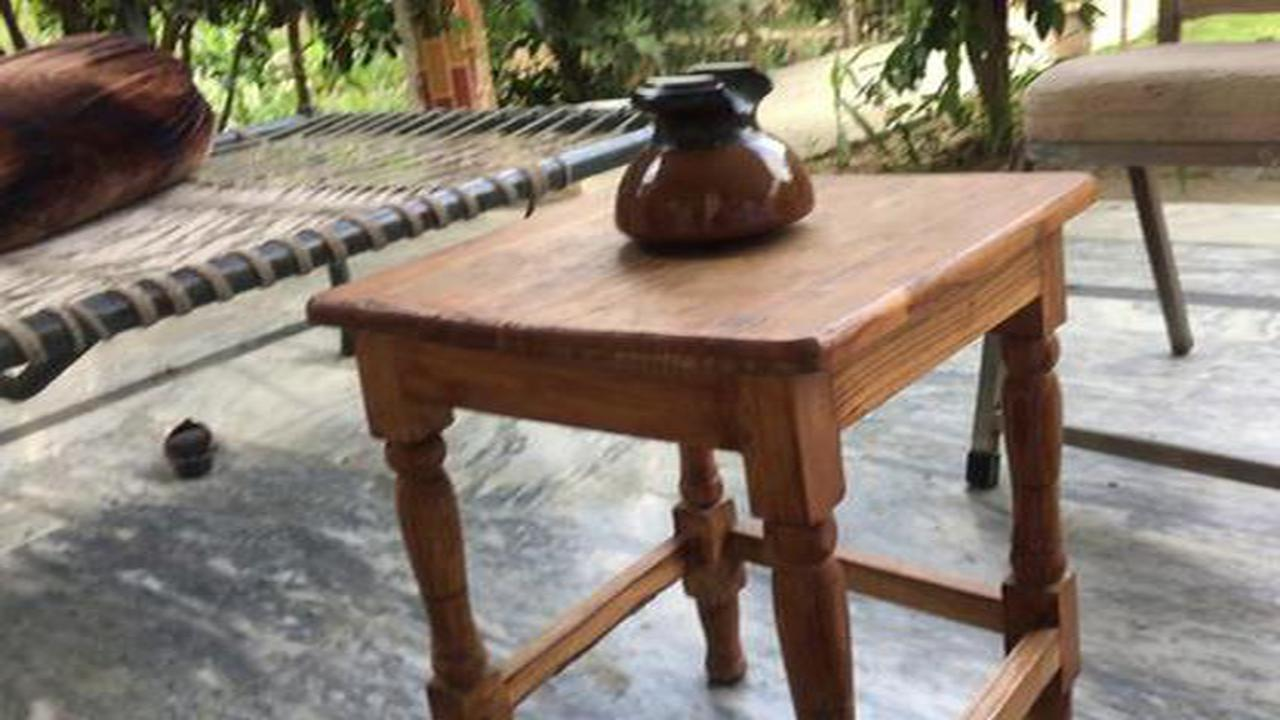insulator_pin: (607, 52, 844, 260)
